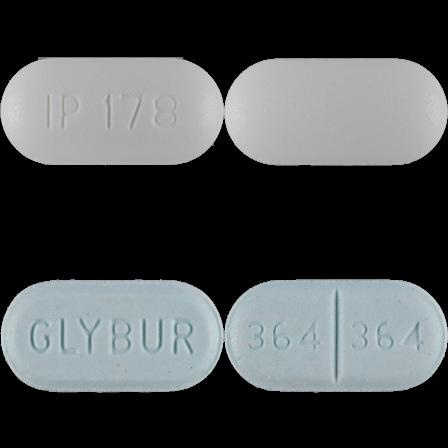43063-428: (0, 0, 224, 224)
